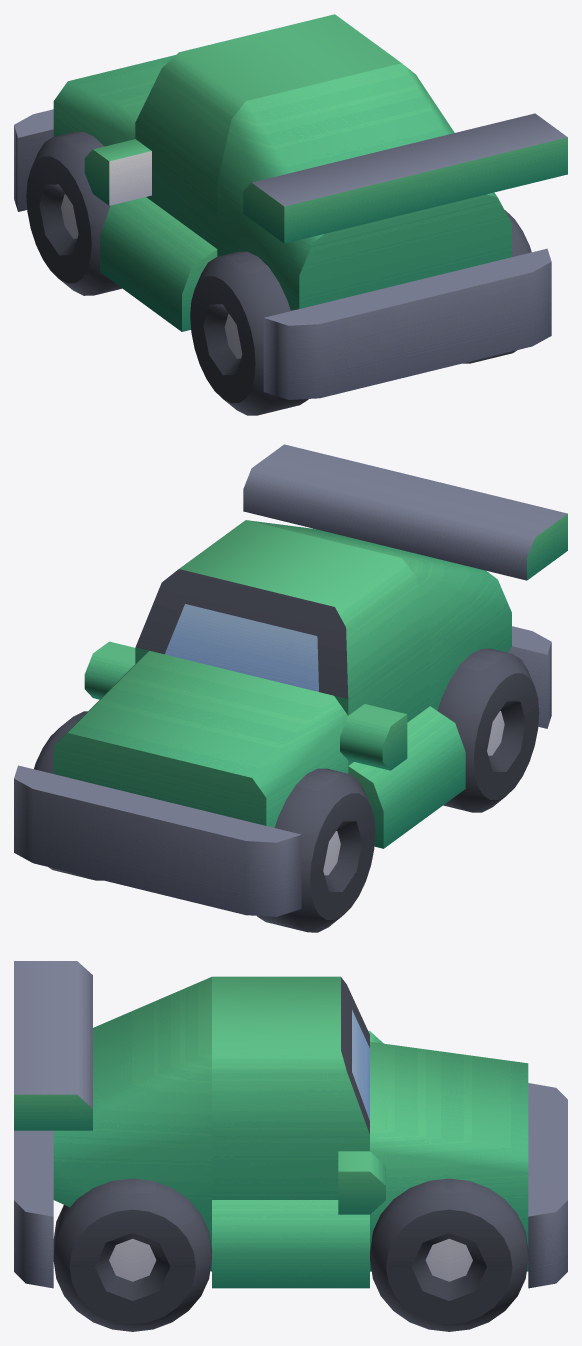
The model's file is vehicle-racer.glb.
3 views of the same model, one above another, from view 1: azimuth 30°, elevation 25°; view 2: azimuth 150°, elevation 25°; view 3: azimuth 270°, elevation 25° (orthographic). The views are drawn at different scales.
Parts seen in each view (by area): view 1: vehicle-racer, wheel-bl, wheel-fl, wheel-br; view 2: vehicle-racer, wheel-bl, wheel-fl, wheel-fr; view 3: vehicle-racer, wheel-br, wheel-fr.
Part boxes in pixels (x1,y1,x2,y2): vehicle-racer: [14, 14, 567, 399]; wheel-bl: [190, 251, 308, 415]; wheel-fl: [26, 131, 121, 295]; wheel-br: [463, 210, 531, 363]; vehicle-racer: [14, 444, 567, 916]; wheel-bl: [437, 648, 539, 812]; wheel-fl: [257, 768, 375, 932]; wheel-fr: [34, 711, 103, 880]; vehicle-racer: [14, 961, 567, 1288]; wheel-br: [53, 1178, 211, 1331]; wheel-fr: [370, 1178, 528, 1331].
Bounding box in the file's own units: 0.525 × 0.45 × 0.875.
1 material, 1 textured.
